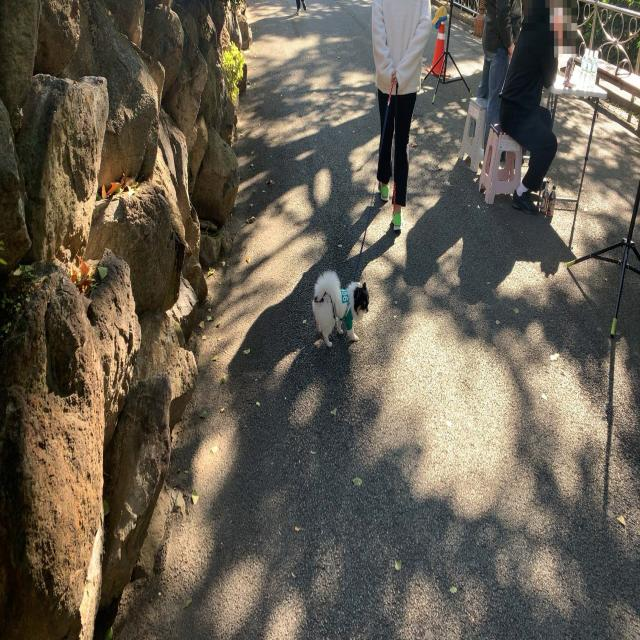Leashed_Dog: (311, 68, 397, 352)
